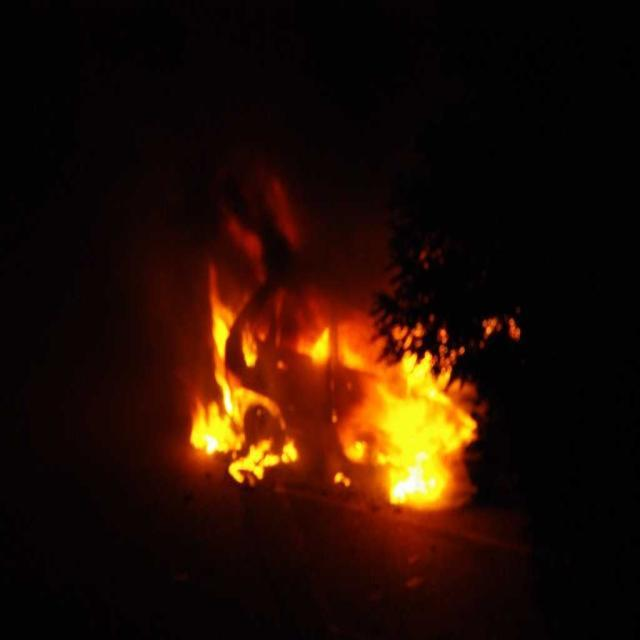Fire: (183, 180, 467, 500)
